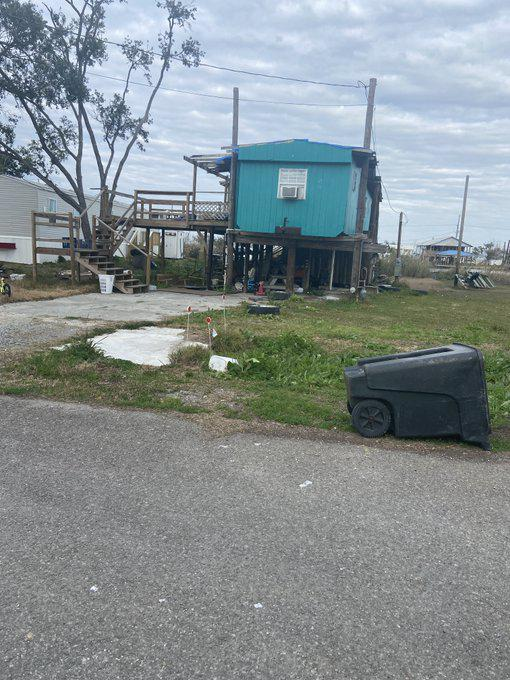minor: (40, 128, 388, 300)
